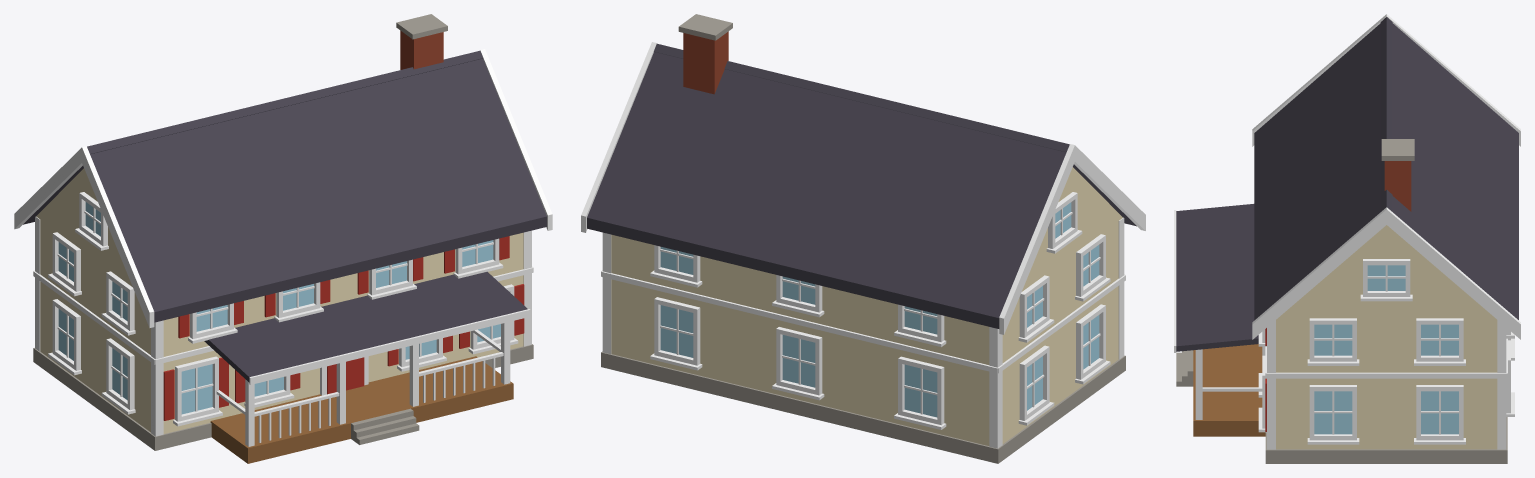
Rendered from farmhouse.glb.
The picture shows the model from 3 angles, left to right: view 1: azimuth 30°, elevation 25°; view 2: azimuth 150°, elevation 25°; view 3: azimuth 270°, elevation 25°; orthographic projection. The views are drawn at different scales.
Parts seen in each view (by area): view 1: roof_slab, walls, porch_roof, window_frames, porch_deck, window_glass, fascia, shutters, ridge_cap, plinth, corners, porch_rails (+8 smaller); view 2: roof_slab, walls, window_frames, plinth, window_glass, fascia, floor_band, corners, ridge_cap, chimney, window_bars, chimney_cap; view 3: roof_slab, walls, porch_roof, window_frames, fascia, window_glass, porch_deck, plinth, corners, ridge_cap, floor_band, chimney (+5 smaller).
Part boxes in pixels (x1=…): roof_slab: x1=23, y1=58, x2=546, y2=322; walls: x1=36, y1=168, x2=523, y2=433; porch_roof: x1=204, y1=271, x2=527, y2=382; window_frames: x1=48, y1=192, x2=518, y2=426; porch_deck: x1=210, y1=356, x2=513, y2=463; window_glass: x1=58, y1=202, x2=500, y2=414; fascia: x1=14, y1=49, x2=552, y2=327; shutters: x1=163, y1=236, x2=524, y2=420; ridge_cap: x1=87, y1=50, x2=482, y2=154; plinth: x1=33, y1=344, x2=533, y2=450; corners: x1=35, y1=216, x2=531, y2=436; porch_rails: x1=216, y1=329, x2=503, y2=442; roof_slab: x1=587, y1=52, x2=1136, y2=328; walls: x1=611, y1=167, x2=1122, y2=445; window_frames: x1=650, y1=192, x2=1110, y2=429; plinth: x1=601, y1=351, x2=1125, y2=463; window_glass: x1=660, y1=202, x2=1099, y2=417; fascia: x1=581, y1=42, x2=1145, y2=334; floor_band: x1=601, y1=270, x2=1125, y2=373; corners: x1=602, y1=217, x2=1124, y2=448; ridge_cap: x1=654, y1=43, x2=1069, y2=152; chimney: x1=683, y1=31, x2=728, y2=94; window_bars: x1=660, y1=208, x2=1100, y2=414; chimney_cap: x1=678, y1=14, x2=732, y2=40; roof_slab: x1=1254, y1=23, x2=1518, y2=320; walls: x1=1276, y1=225, x2=1497, y2=449; porch_roof: x1=1176, y1=204, x2=1258, y2=351; window_frames: x1=1258, y1=259, x2=1514, y2=444; fascia: x1=1252, y1=14, x2=1520, y2=339; window_glass: x1=1314, y1=265, x2=1458, y2=434; porch_deck: x1=1193, y1=344, x2=1265, y2=436; plinth: x1=1265, y1=417, x2=1507, y2=463; corners: x1=1267, y1=320, x2=1506, y2=449; ridge_cap: x1=1380, y1=17, x2=1392, y2=211; floor_band: x1=1265, y1=338, x2=1507, y2=378; chimney: x1=1384, y1=161, x2=1411, y2=211.
Bounding box in the file's own units: 12.14 × 8.54 × 9.11.
